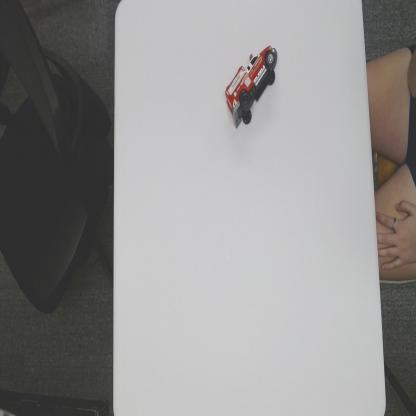Firetruck: (224, 41, 279, 129)
